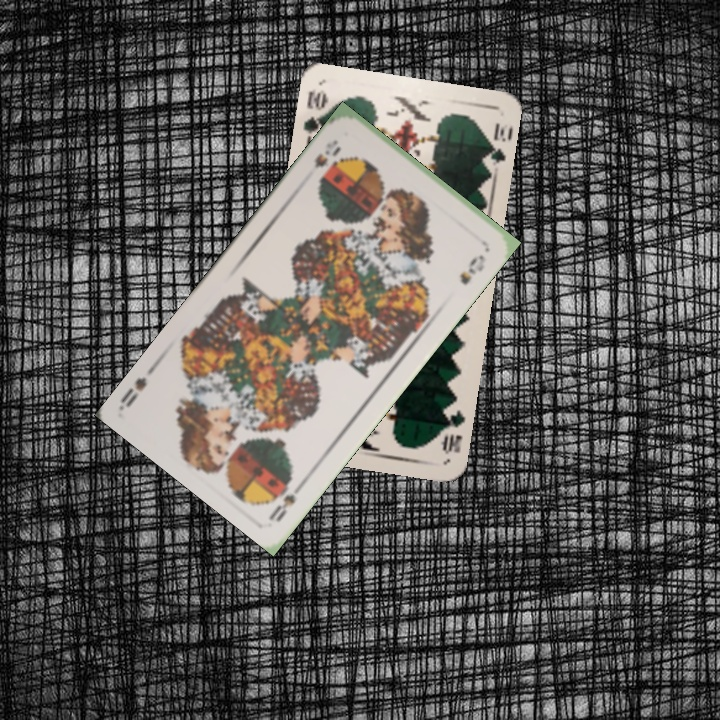G10: (299, 85, 330, 145), (438, 405, 468, 457)
SO: (265, 473, 311, 524), (310, 135, 344, 185)
